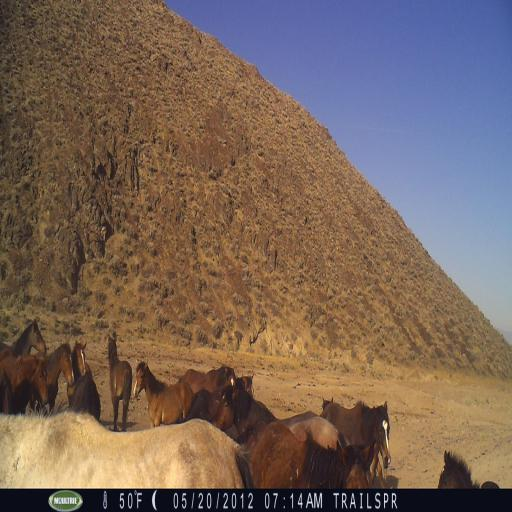Horse: (0, 318, 391, 492), (438, 445, 499, 492), (110, 335, 134, 433)
